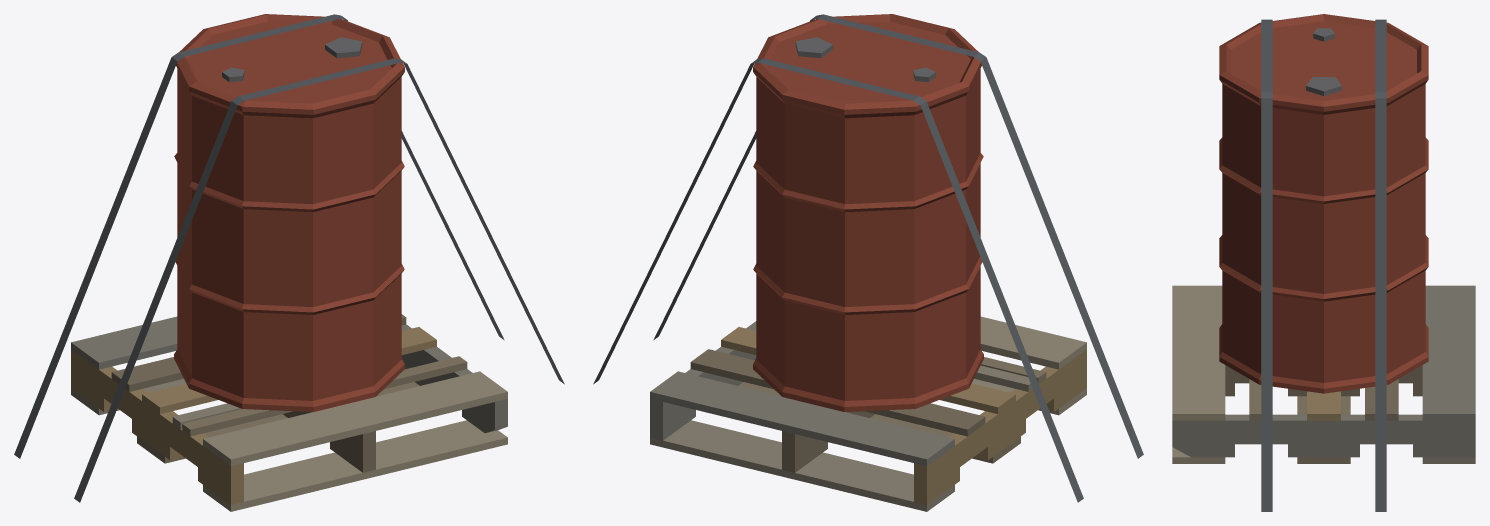
File: drum-pallet.glb
The picture shows the model from 3 angles, left to right: view 1: azimuth 30°, elevation 25°; view 2: azimuth 150°, elevation 25°; view 3: azimuth 270°, elevation 25°; orthographic projection. The views are drawn at different scales.
Parts seen in each view (by area): view 1: DrumClosed, PalletSmall, DrumPallet_Strap; view 2: DrumClosed, PalletSmall, DrumPallet_Strap; view 3: DrumClosed, PalletSmall, DrumPallet_Strap.
Part boxes in pixels (left/top/right/bottom): DrumClosed: left=174, top=14, right=404, bottom=411; PalletSmall: left=71, top=314, right=507, bottom=511; DrumPallet_Strap: left=14, top=14, right=564, bottom=502; DrumClosed: left=753, top=14, right=983, bottom=411; PalletSmall: left=650, top=316, right=1086, bottom=511; DrumPallet_Strap: left=593, top=14, right=1143, bottom=502; DrumClosed: left=1219, top=14, right=1428, bottom=393; PalletSmall: left=1172, top=285, right=1475, bottom=463; DrumPallet_Strap: left=1261, top=19, right=1386, bottom=511.
Size of the model in its own units: 1.4 by 0.999 by 0.8.
